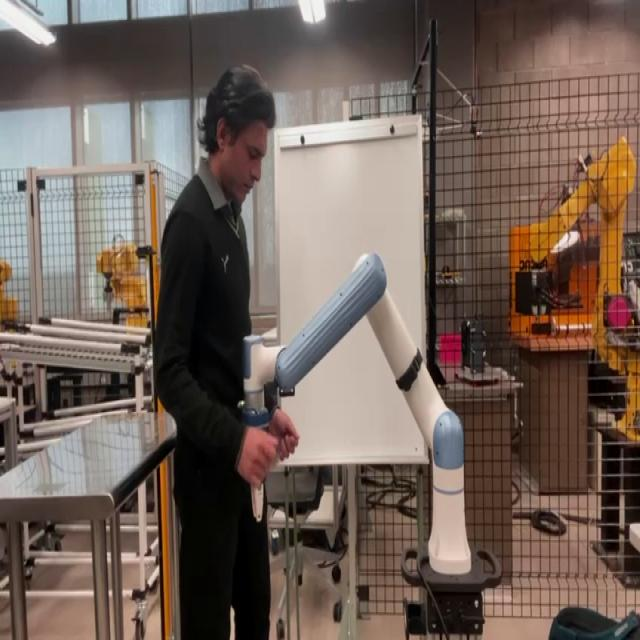robot: (240, 249, 503, 639)
